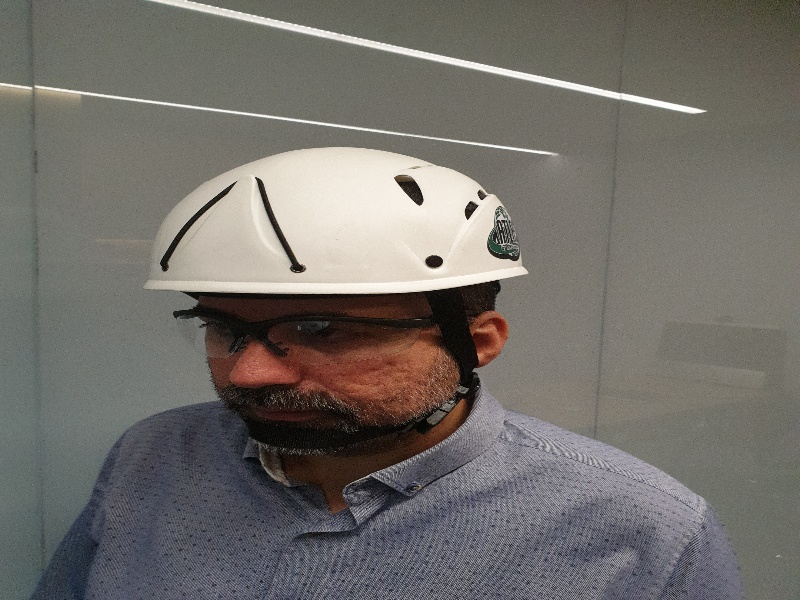Baret: (146, 147, 532, 296)
Gozluk: (169, 306, 485, 369)
